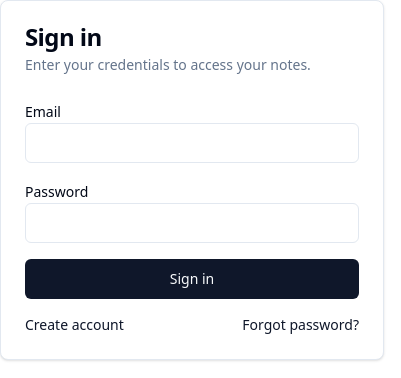
Scenario: auth-ui › Login screen › disables the submit button while the request is pending
The image size is (401, 378).
In the field labelled "Email": (192, 143) [25,123,359,163], type "a@b.com"
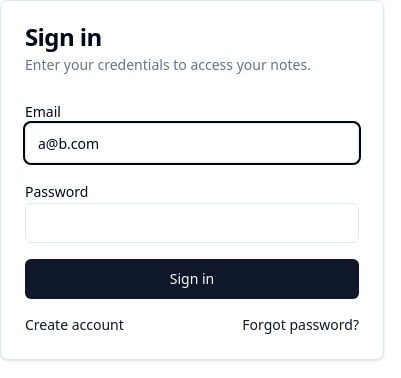
In the password field labelled "Password": (192, 223) [25,203,359,243], type "Passw0rd"
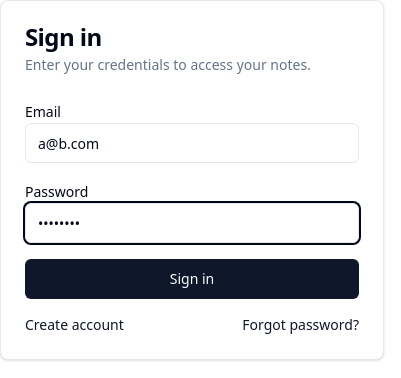
Click the button "Sign in": click(192, 279) [25,259,359,299]
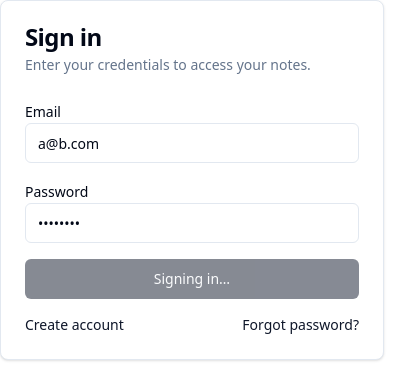
Expected: the button "Signing in…" is disabled, [25,259,359,299]
